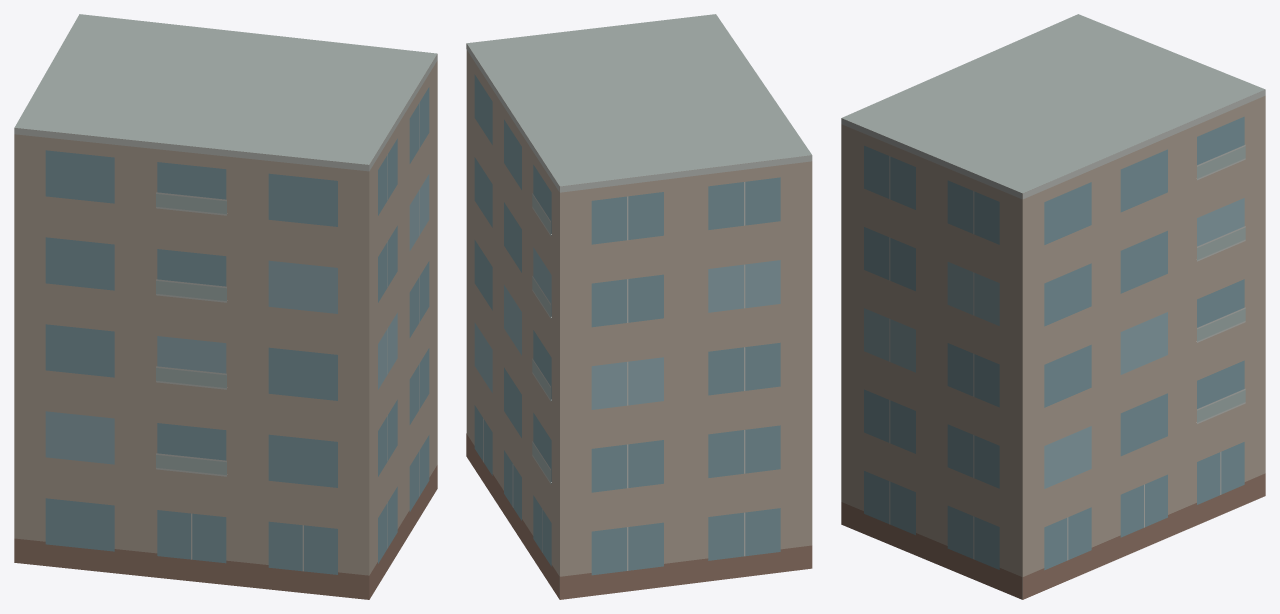
File: survey-upis-32770308.glb
3 views of the same model, side by side, from view 1: azimuth 30°, elevation 25°; view 2: azimuth 150°, elevation 25°; view 3: azimuth 270°, elevation 25° (orthographic). The views are drawn at different scales.
Parts seen in each view (by area): view 1: survey-upis-32770308.tmp; view 2: survey-upis-32770308.tmp; view 3: survey-upis-32770308.tmp.
Part boxes in pixels (x1,y1,x2,y2): survey-upis-32770308.tmp: (14, 14, 437, 599); survey-upis-32770308.tmp: (466, 14, 812, 599); survey-upis-32770308.tmp: (841, 14, 1265, 599).
Bounding box in the file's own units: 15.44 × 16.3 × 15.43.
